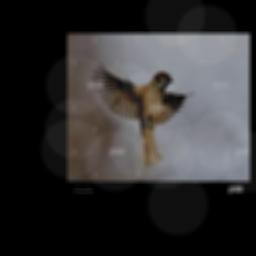Sparrow: (92, 63, 195, 166)
